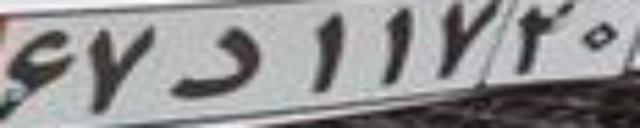0: (579, 19, 626, 52)
1: (309, 13, 344, 91), (383, 8, 410, 85)
2: (515, 0, 579, 75)
6: (2, 28, 77, 120)
7: (85, 23, 160, 116), (438, 0, 501, 79)
dal: (164, 24, 265, 99)
